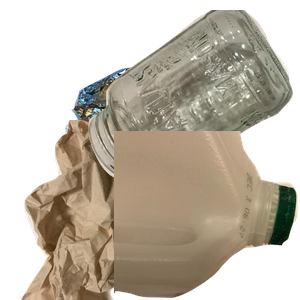glass: (86, 10, 300, 184)
metal: (61, 54, 225, 202)
plastic: (114, 131, 300, 300)
trash: (19, 120, 249, 300)
